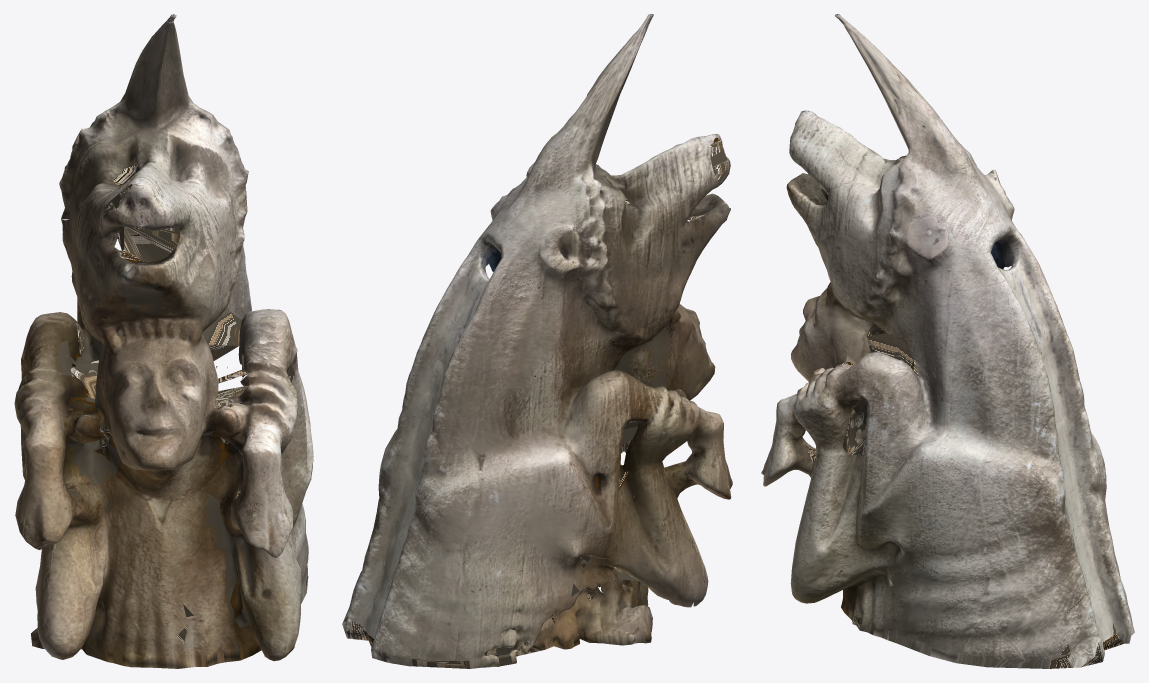
File: 00_unicorn.gltf
3 renders of one model, left to right at view 1: azimuth 30°, elevation 25°; view 2: azimuth 150°, elevation 25°; view 3: azimuth 270°, elevation 25°, orthographic. The views are drawn at different scales.
Visible parts, largest first — view 1: Mesh_0; view 2: Mesh_0; view 3: Mesh_0.
Part boxes in pixels (x1=…): Mesh_0: x1=14, y1=14, x2=313, y2=668; Mesh_0: x1=342, y1=14, x2=732, y2=668; Mesh_0: x1=761, y1=14, x2=1134, y2=668.
Size of the model in its own units: 2.32 by 4.33 by 2.59.
7 materials, 7 textured.
